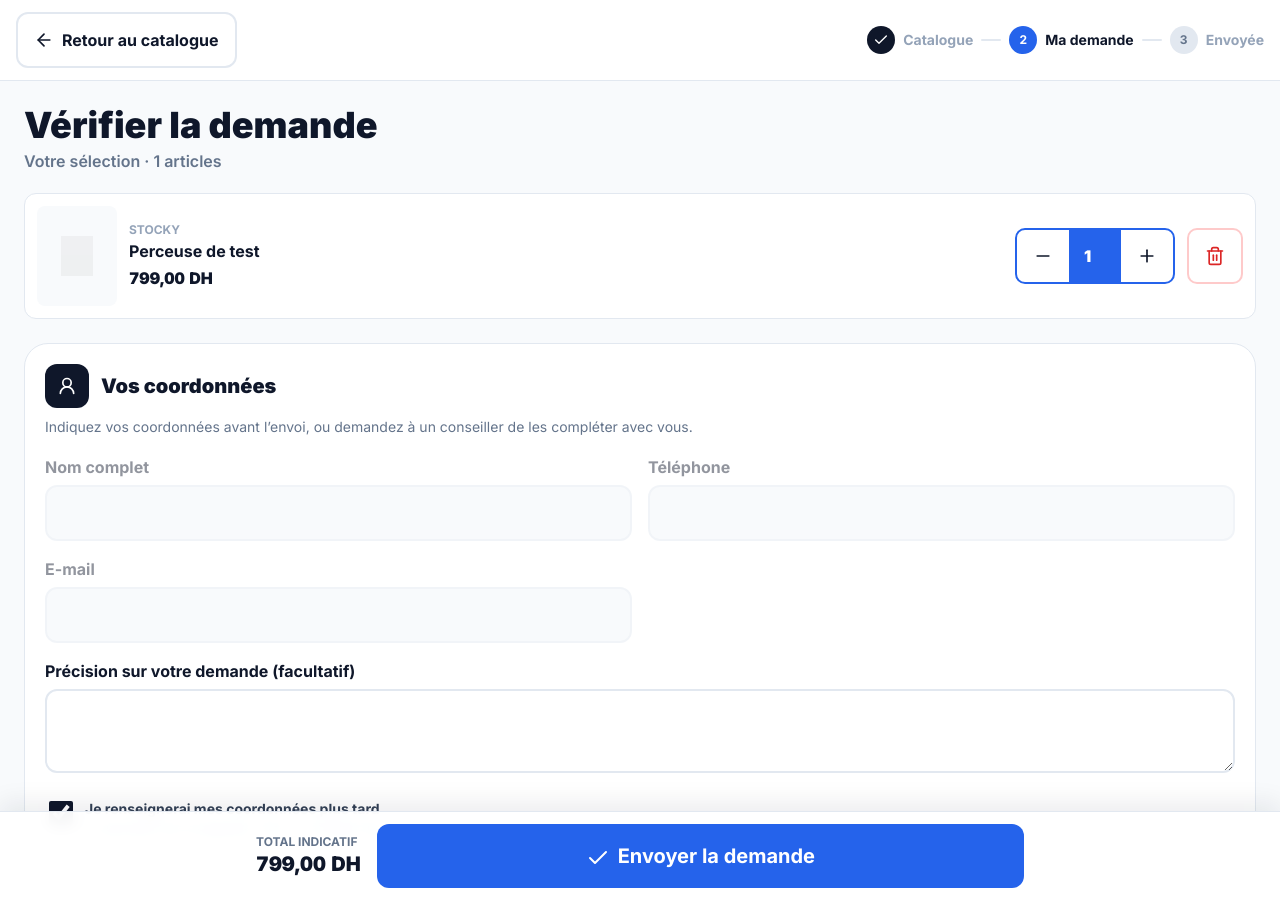
it: KioskPage › explains a rejected submission in the kiosk language and keeps the selection
This screenshot has width=1280, height=900.
Earlier steps of the test are not shown.
Click the button "Envoyer la demande": (700, 856) [377,824,1024,888]
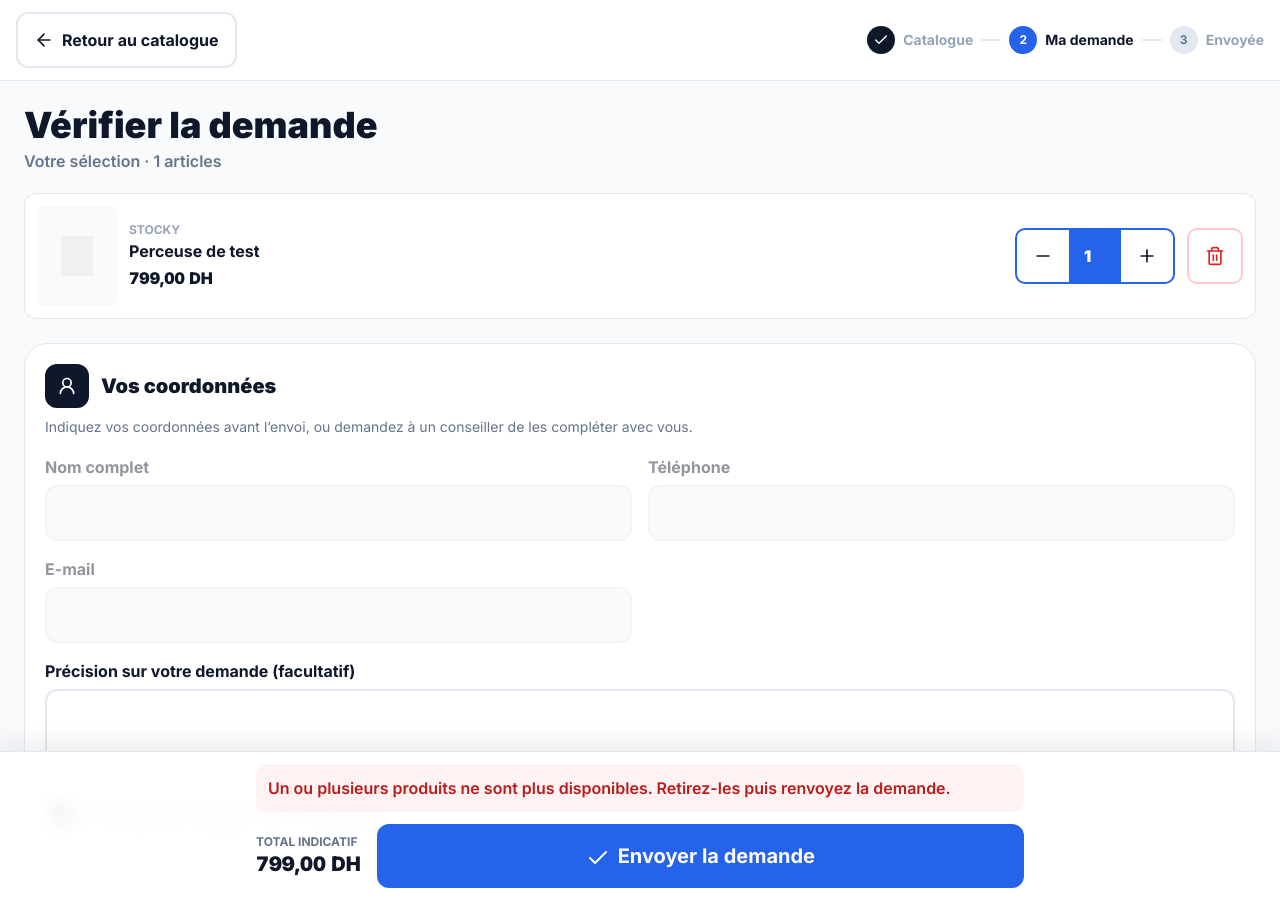
Expected: the heading "Perceuse de test" is shown, [129,241,260,261]
Now the message shows "Un ou plusieurs produits ne sont plus disponibles", box [268,778,951,798]
